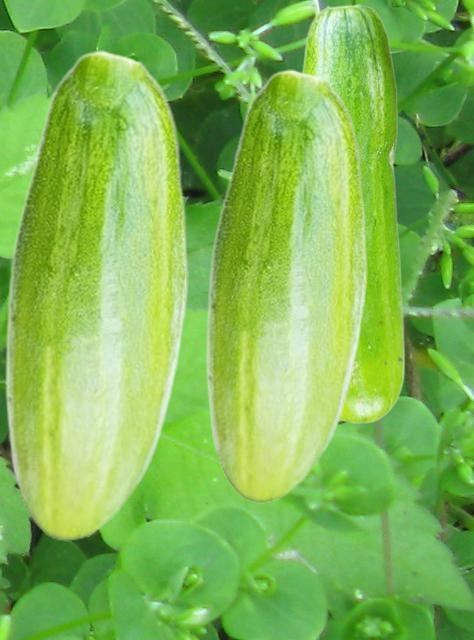cucumber: (4, 50, 187, 540), (205, 69, 366, 502), (299, 3, 404, 423)
